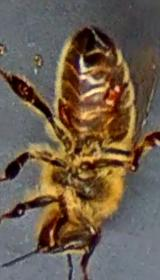varroa_mite: (97, 69, 133, 114)
